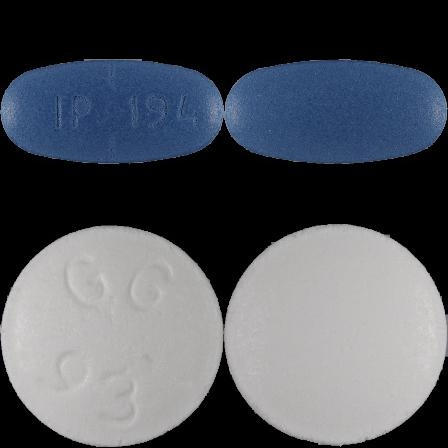63187-121: (0, 0, 224, 224)
